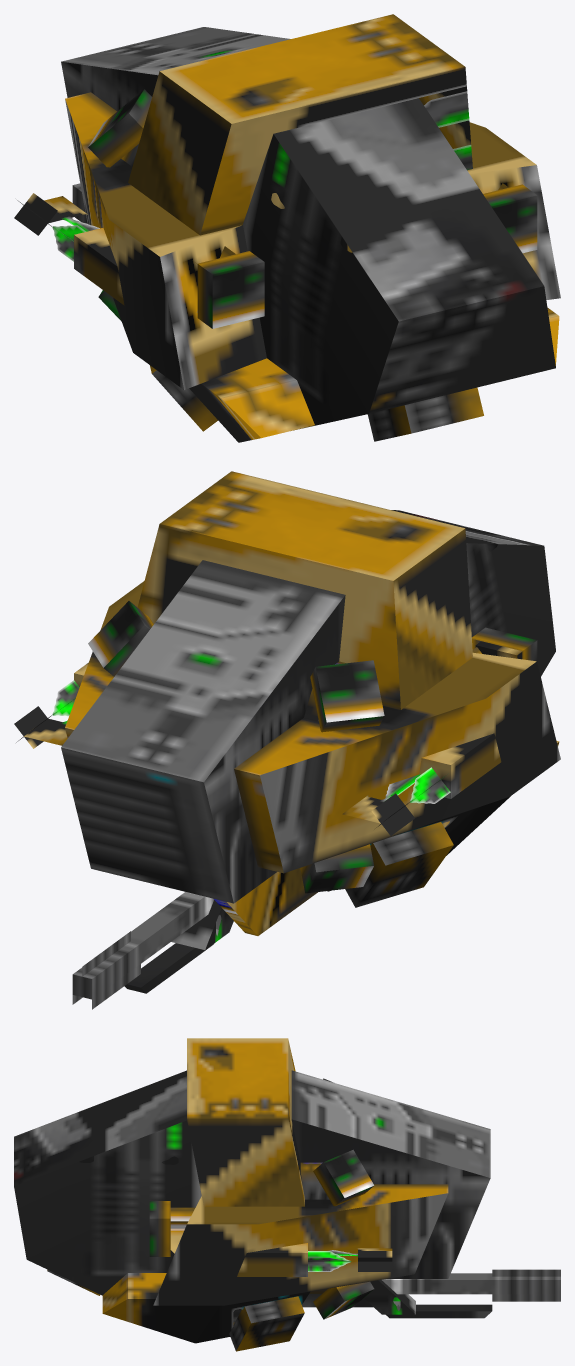
The model's file is astro_miner_full.obj.
The picture shows the model from 3 angles, top to bottom: view 1: azimuth 30°, elevation 25°; view 2: azimuth 150°, elevation 25°; view 3: azimuth 270°, elevation 25°; orthographic projection. The views are drawn at different scales.
Parts seen in each view (by area): view 1: Hull, Glow, Lasers_Main_Laser_Base; view 2: Hull, Glow, Lasers_Main_Laser_Base, Main_Laser_Front, Main_Laser_Left_Guard, Main_Laser_Center, HoverPad; view 3: Hull, Glow, Main_Laser_Front, Lasers_Main_Laser_Base, HoverPad, Main_Laser_Center.
Boxes of the visible parts, x1,y1,x2,y2 form: Hull: (61,14,560,442); Glow: (88,89,537,441); Lasers_Main_Laser_Base: (14,193,124,305); Hull: (61,471,560,903); Glow: (88,601,537,907); Lasers_Main_Laser_Base: (14,663,501,835); Main_Laser_Front: (72,892,213,1009); Main_Laser_Left_Guard: (213,868,317,935); Main_Laser_Center: (171,900,233,949); HoverPad: (304,641,522,721); Hull: (14,1038,490,1343); Glow: (47,1078,374,1351); Main_Laser_Front: (382,1269,560,1318); Lasers_Main_Laser_Base: (237,1243,392,1307); HoverPad: (170,1162,329,1293); Main_Laser_Center: (364,1280,415,1314).
Size of the model in its own units: 36.25 by 30.94 by 64.84.
